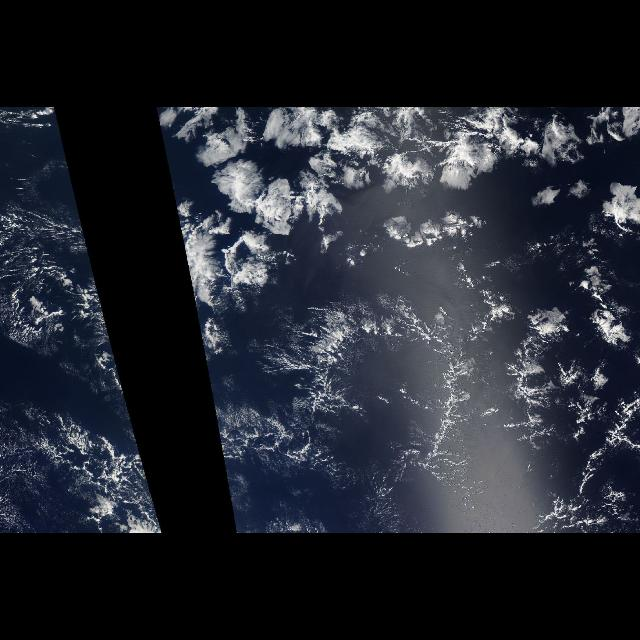Flower: (158, 108, 630, 354)
